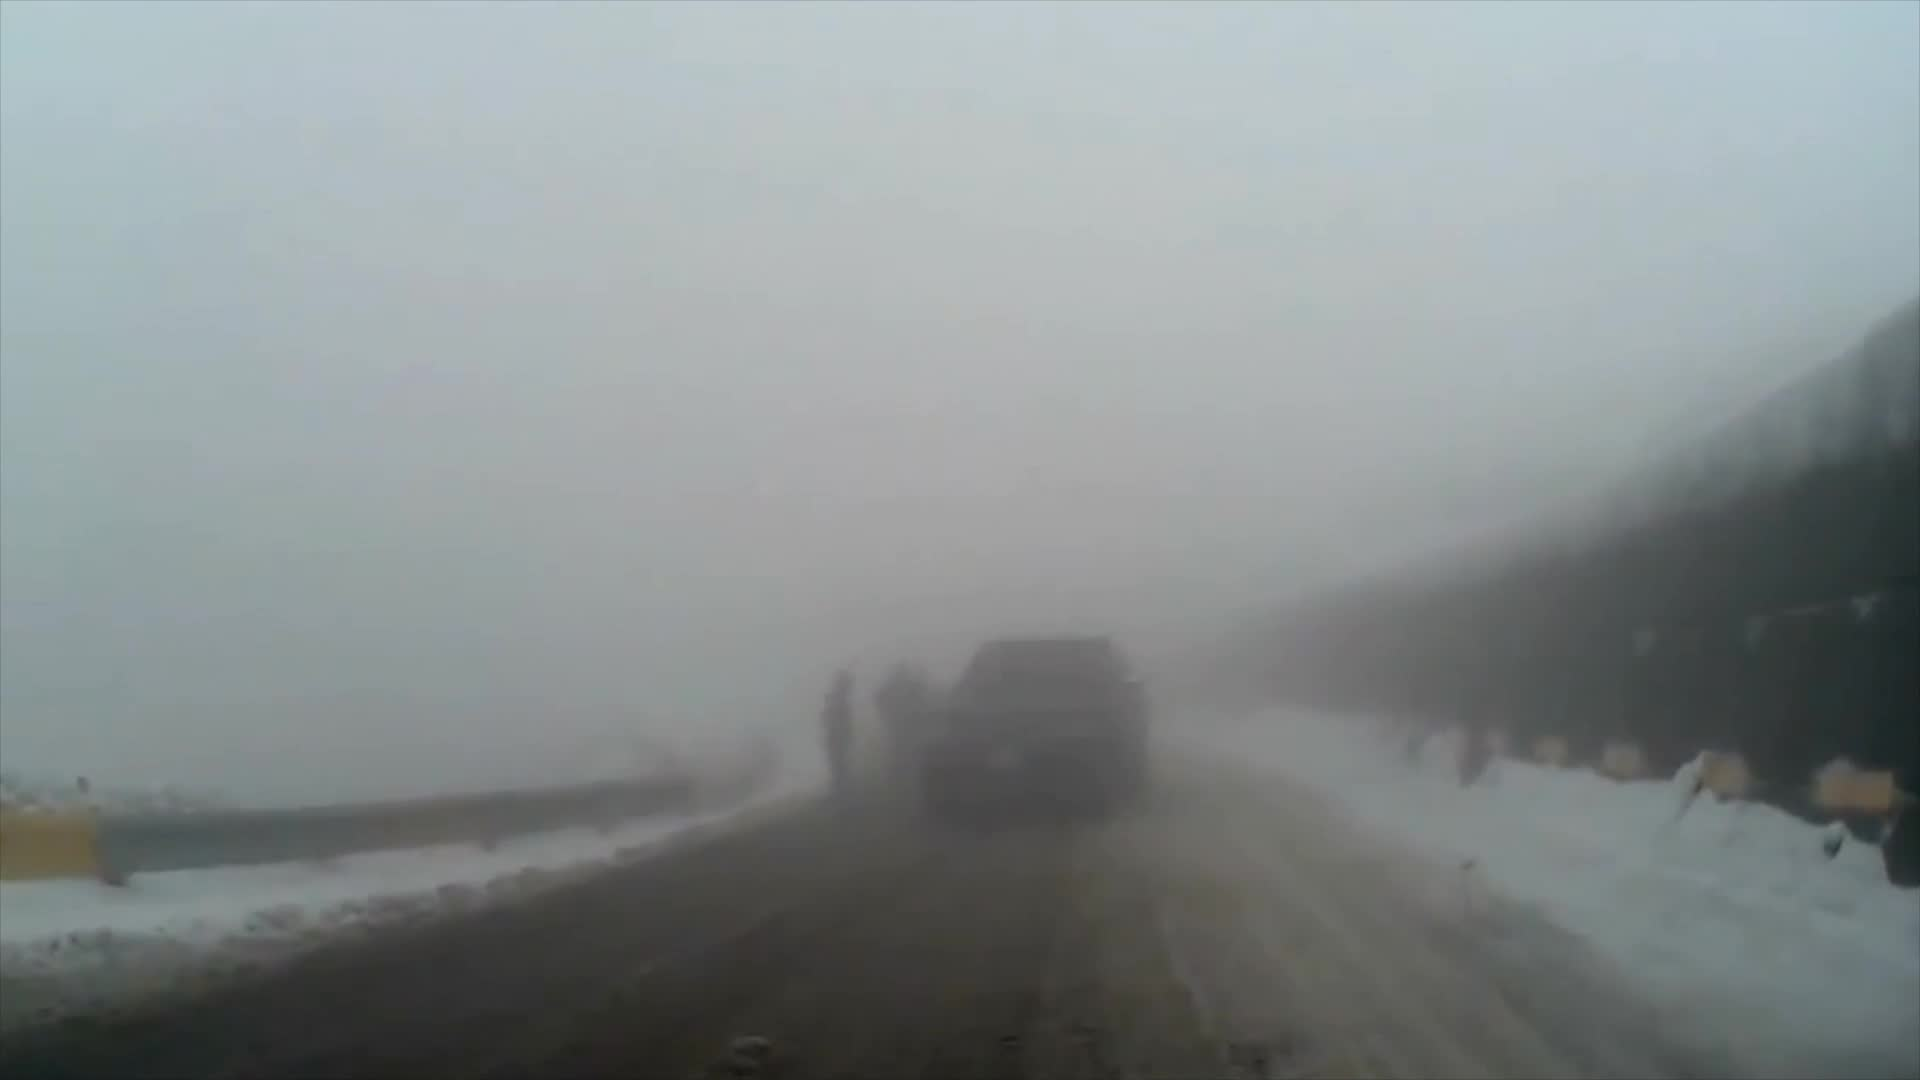pedestrian: (875, 658, 931, 784), (815, 663, 861, 804)
vehicle: (922, 632, 1151, 833)
